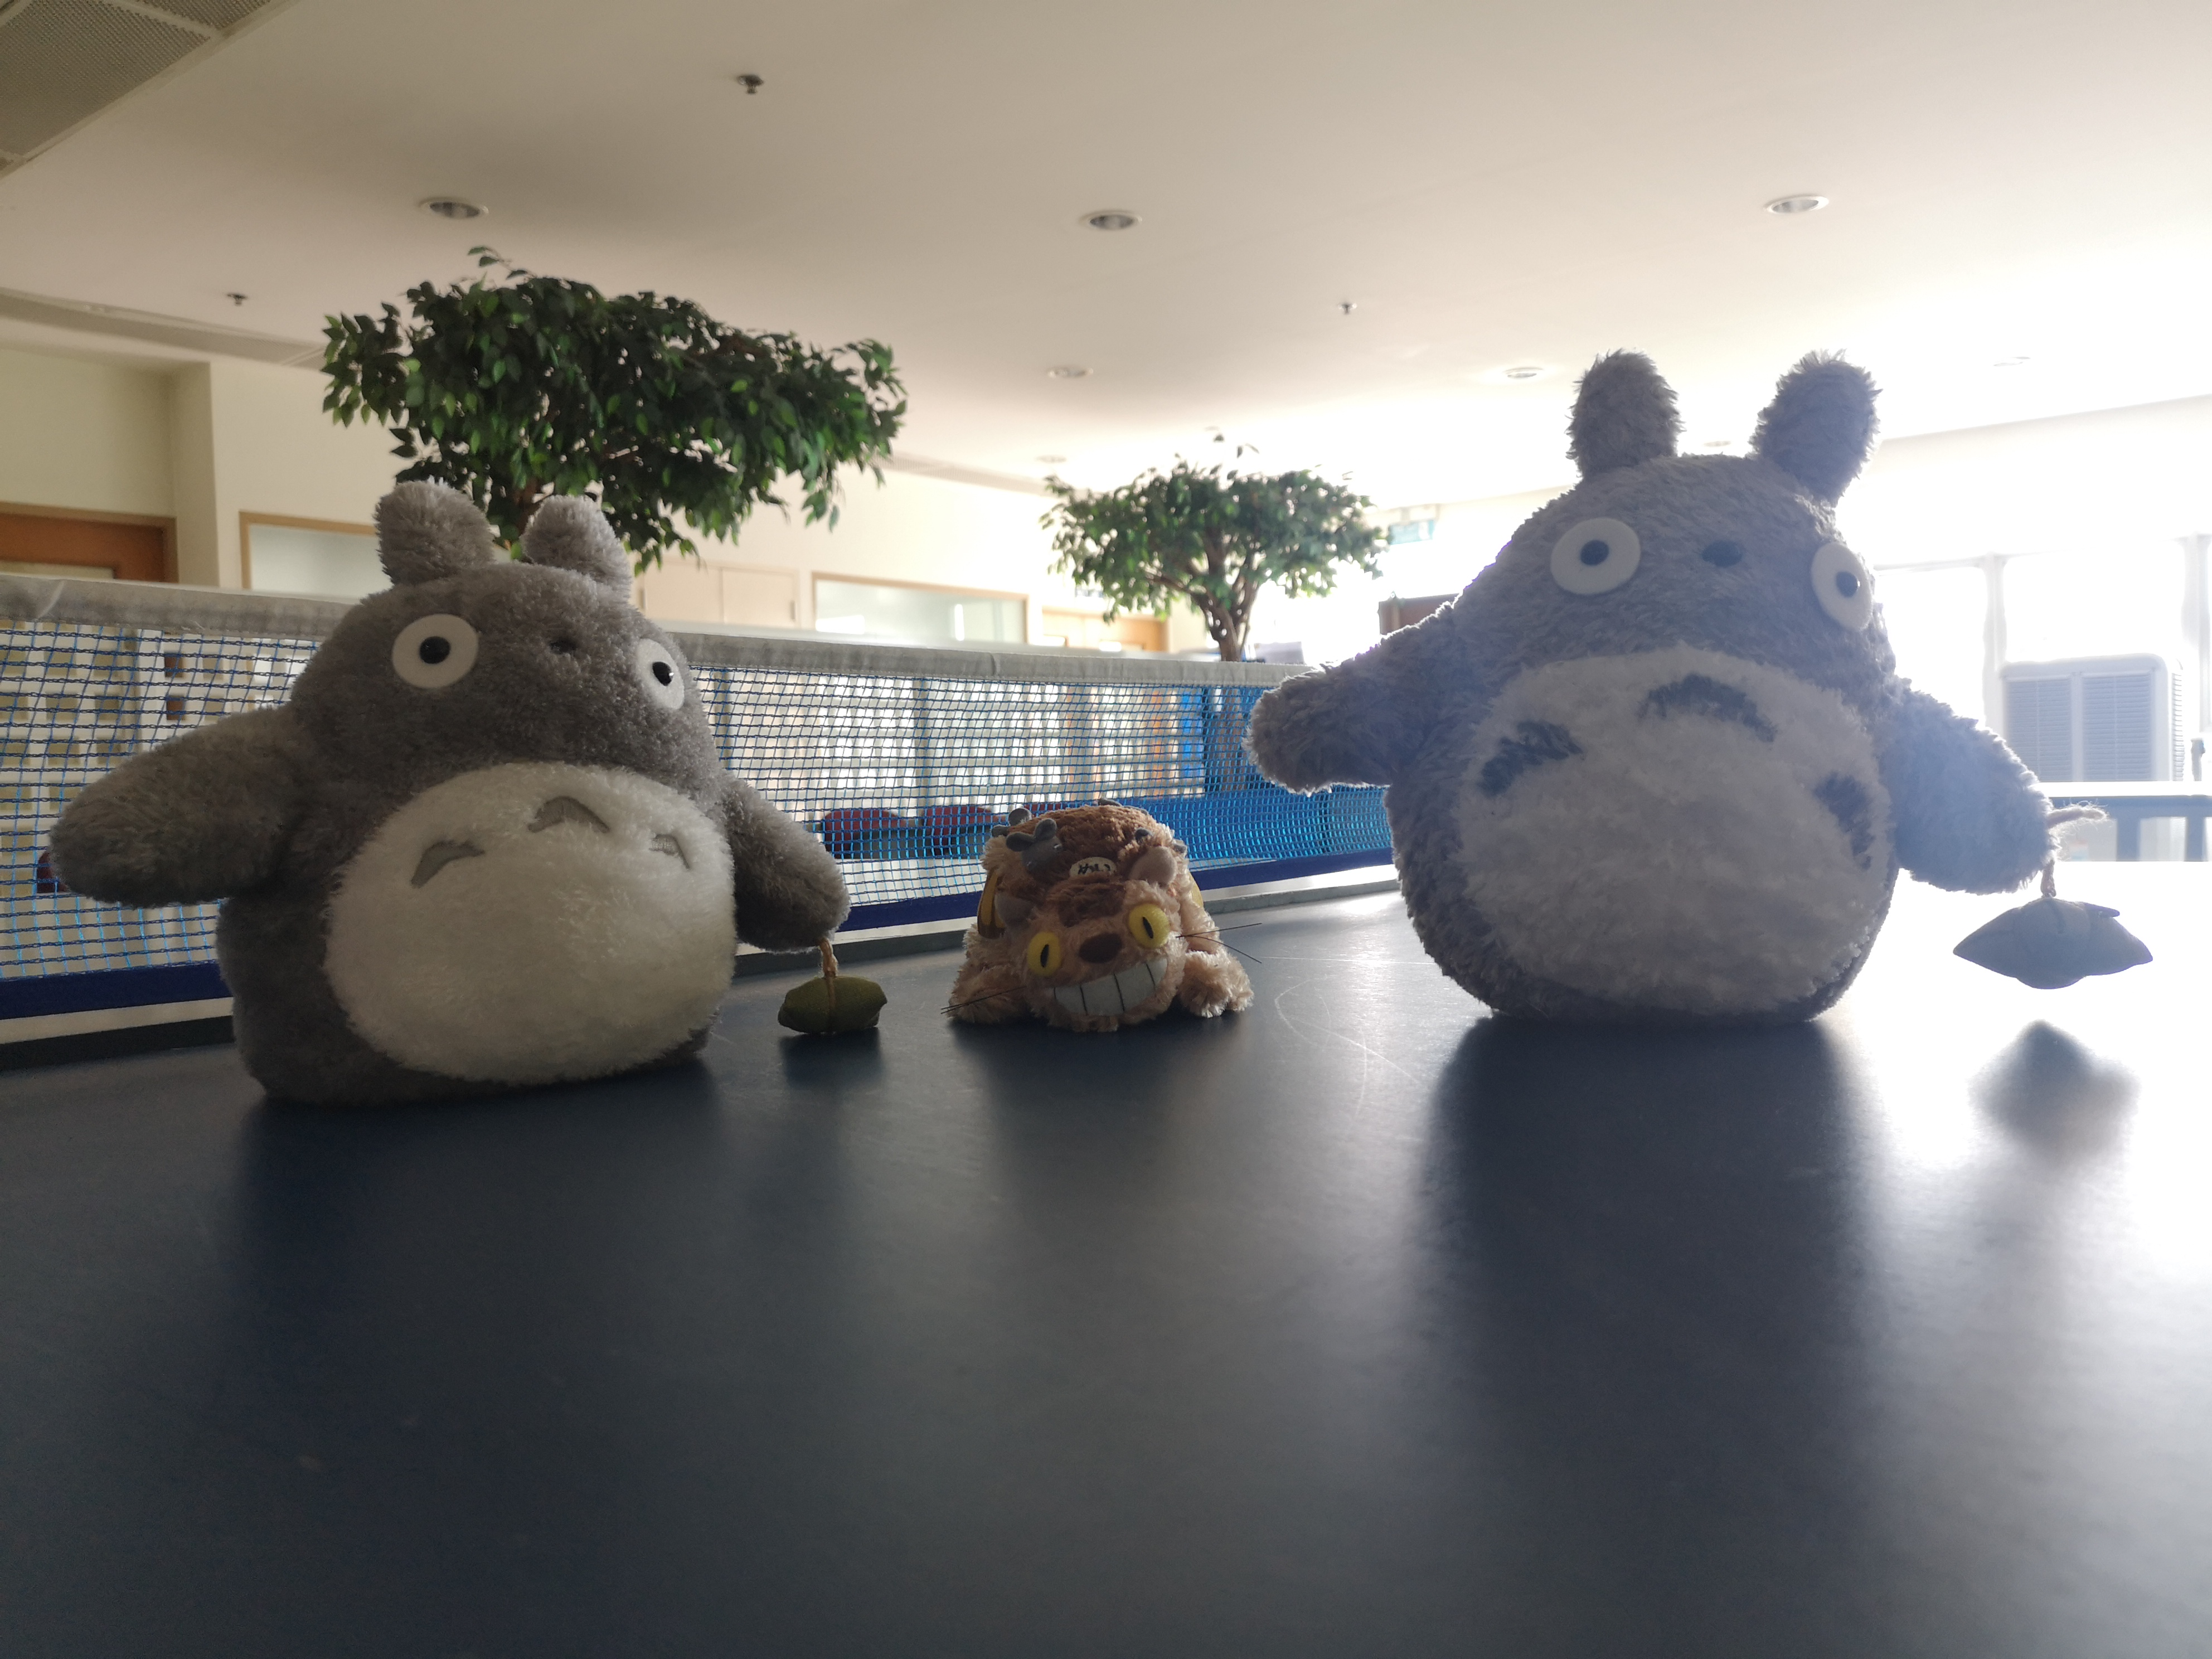nekobus: (942, 798, 1263, 1056)
totoro: (1247, 345, 2161, 1060), (33, 471, 904, 1136)
